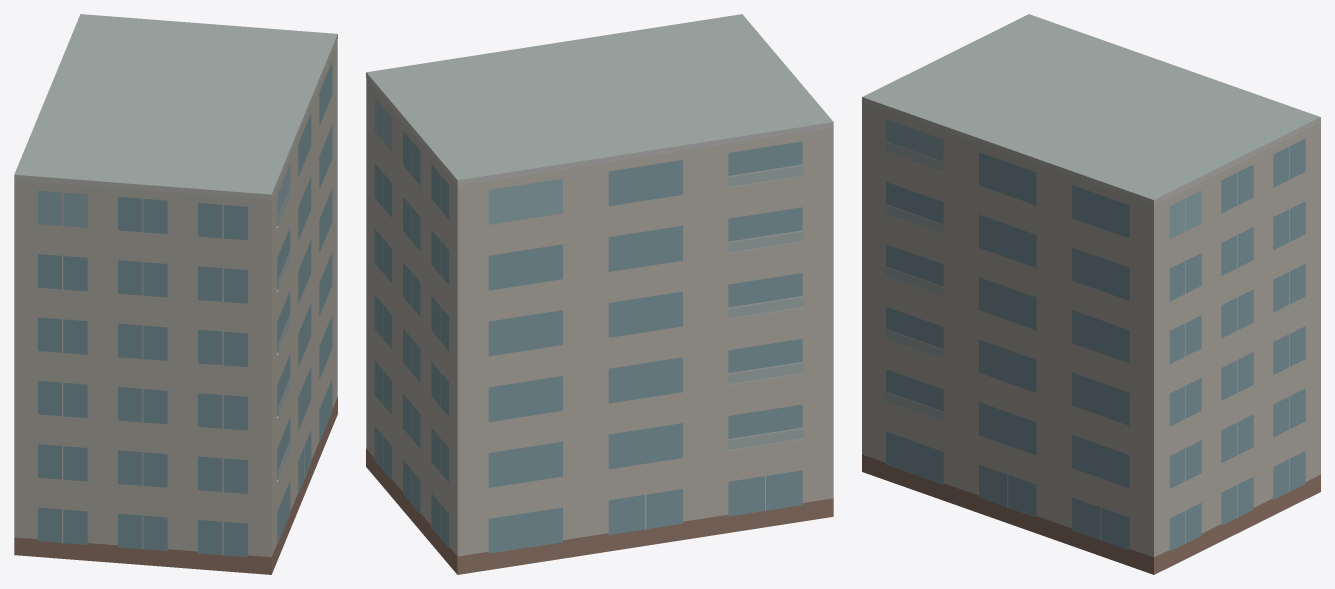
File: survey-upis-32843724.glb
3 renders of one model, left to right at view 1: azimuth 30°, elevation 25°; view 2: azimuth 150°, elevation 25°; view 3: azimuth 270°, elevation 25°, orthographic. The views are drawn at different scales.
Visible parts, largest first — view 1: survey-upis-32843724.tmp; view 2: survey-upis-32843724.tmp; view 3: survey-upis-32843724.tmp.
Boxes of the visible parts, x1,y1,x2,y2 form: survey-upis-32843724.tmp: [14, 14, 337, 574]; survey-upis-32843724.tmp: [366, 14, 833, 574]; survey-upis-32843724.tmp: [862, 14, 1320, 574].
Bounding box in the file's own units: 18.22 × 17.1 × 18.98.
